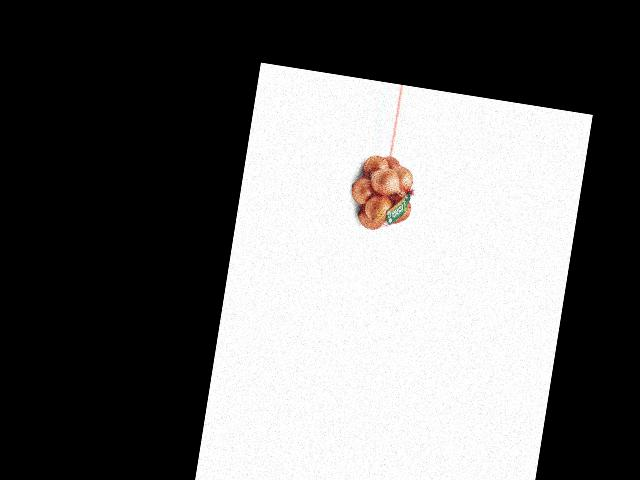onion: (355, 203, 383, 233)
